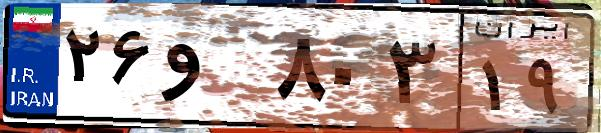0: (330, 28, 385, 110)
1: (475, 38, 525, 113)
2: (57, 26, 110, 100)
3: (385, 28, 445, 110)
6: (110, 28, 158, 98)
8: (270, 28, 330, 110)
9: (525, 38, 570, 115)
و: (158, 20, 270, 120)
